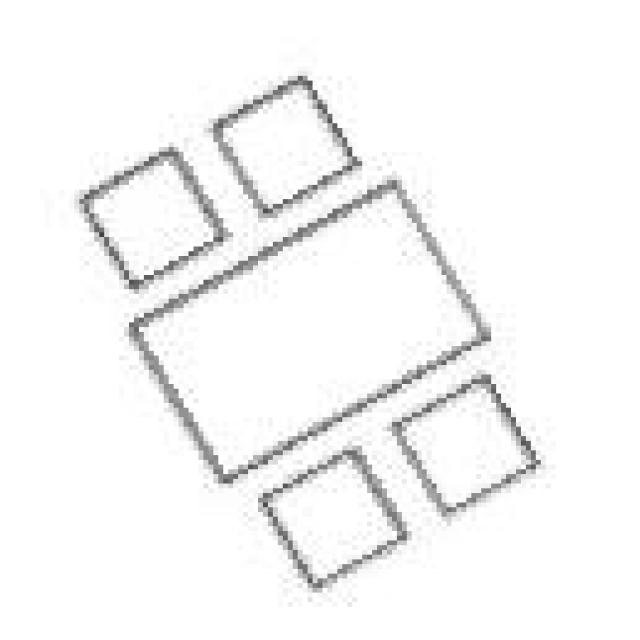table: (69, 66, 541, 588)
